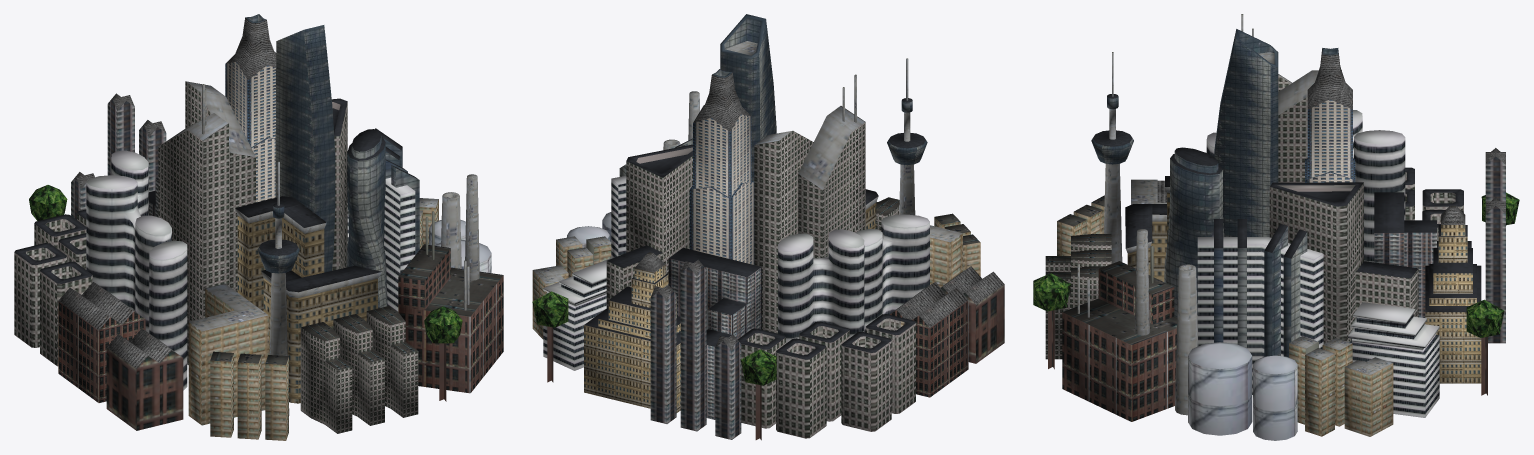
The model's file is city_modern_4.glb.
3 renders of one model, left to right at view 1: azimuth 30°, elevation 25°; view 2: azimuth 150°, elevation 25°; view 3: azimuth 270°, elevation 25°, orthographic. The views are drawn at different scales.
Visible parts, largest first — view 1: ModernCity_Tier5; view 2: ModernCity_Tier5; view 3: ModernCity_Tier5.
Part boxes in pixels (x1=…): ModernCity_Tier5: x1=14, y1=14, x2=503, y2=440; ModernCity_Tier5: x1=532, y1=14, x2=1004, y2=440; ModernCity_Tier5: x1=1033, y1=14, x2=1519, y2=440.
Size of the model in its own units: 4.13 by 3.19 by 4.39.
1 material, 1 textured.
